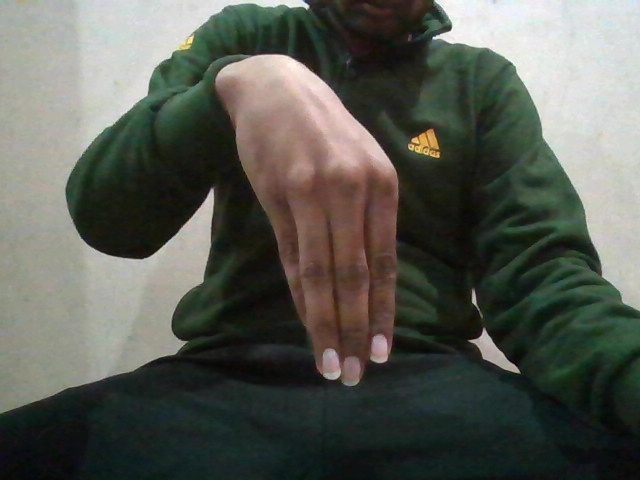M: (215, 81, 409, 393)
